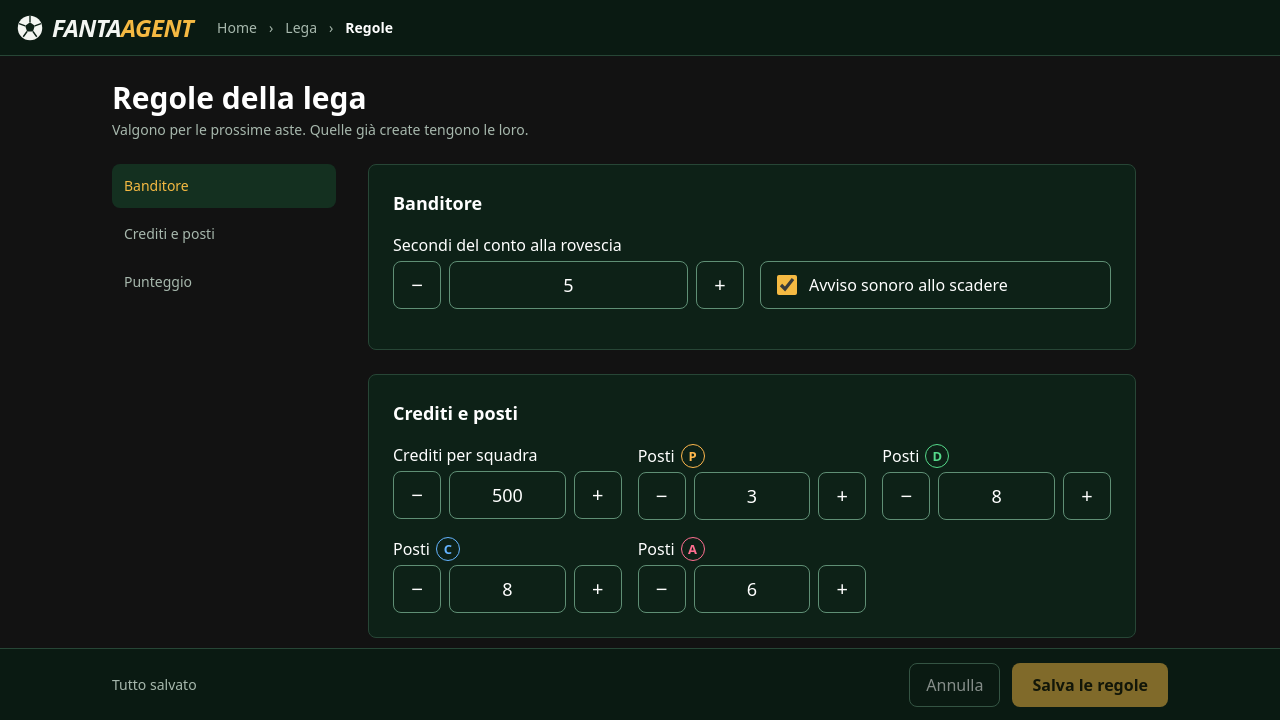
Test case: LeagueRulesRoute › un 422 invalid-settings senza mappa errors mostra comunque un annuncio
Step 1. Click the button named "Un secondo in più" → (720, 285), box top-left (696, 261), bottom-right (744, 309)
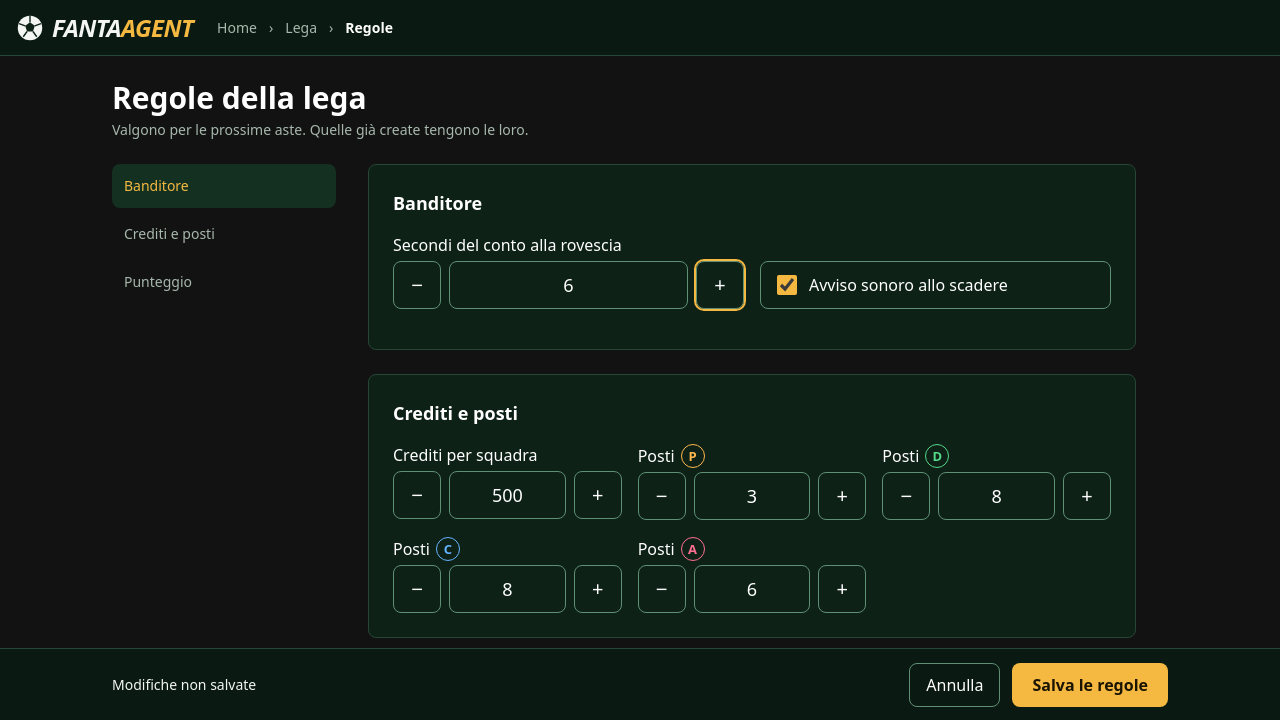
Step 2. Click the button "Salva le regole" → (1090, 684), box top-left (1012, 662), bottom-right (1168, 706)
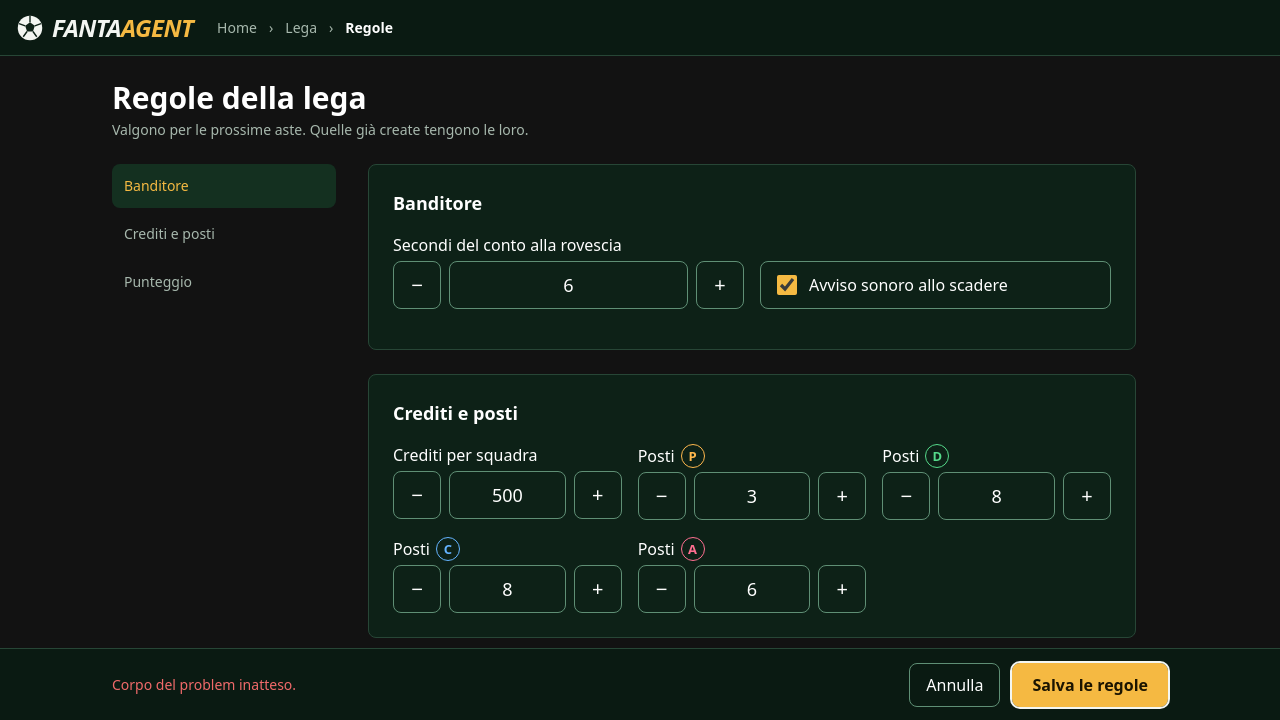
expect the number of messages is 1: met, box top-left (112, 675), bottom-right (296, 694)
expect the message shows "Corpo del problem inatteso": met, box top-left (112, 675), bottom-right (296, 694)
